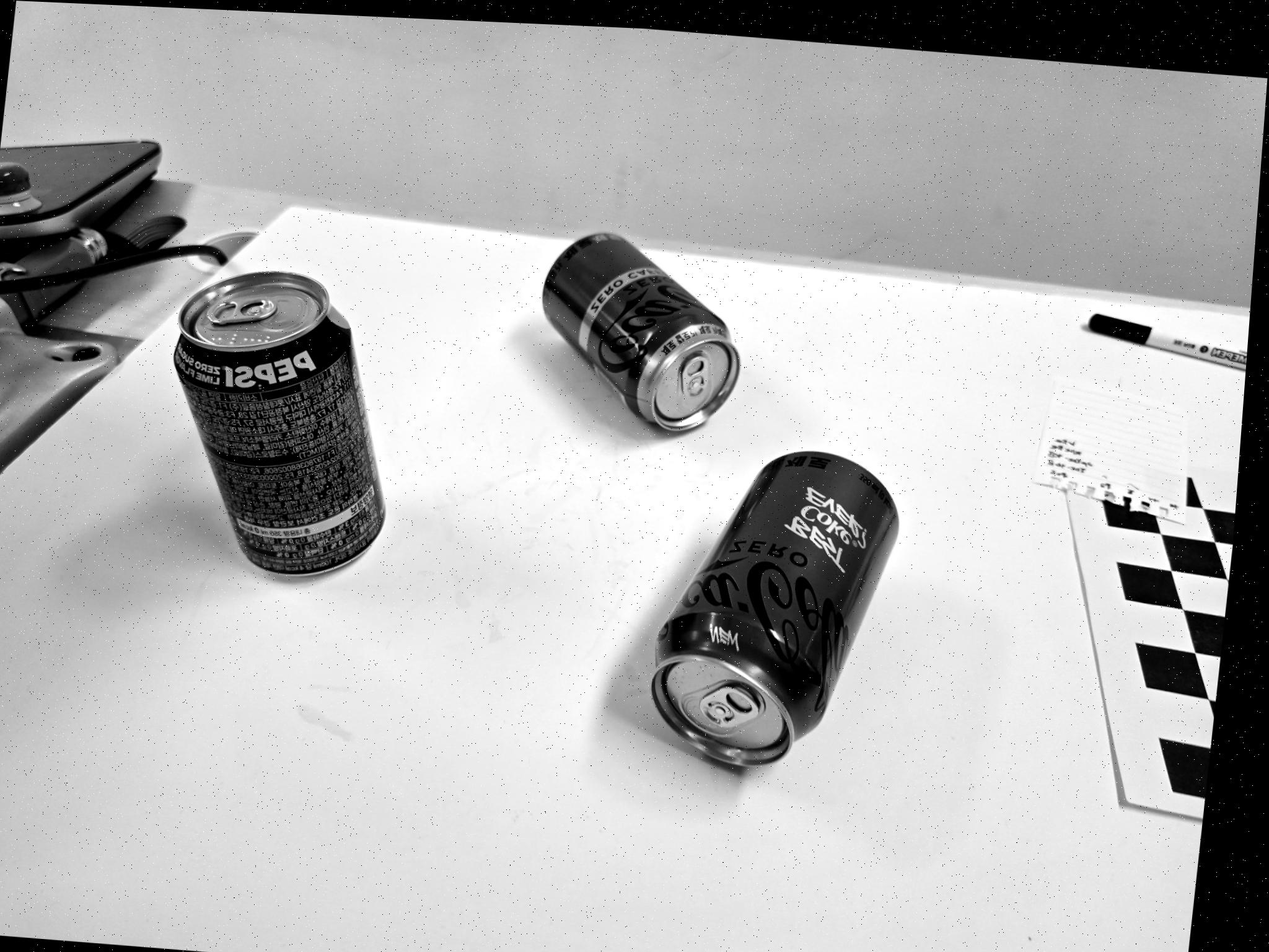can_coke_decaf: (539, 224, 749, 449)
can_coke_zero: (650, 446, 899, 769)
can_pepsi_zero: (169, 276, 392, 589)
